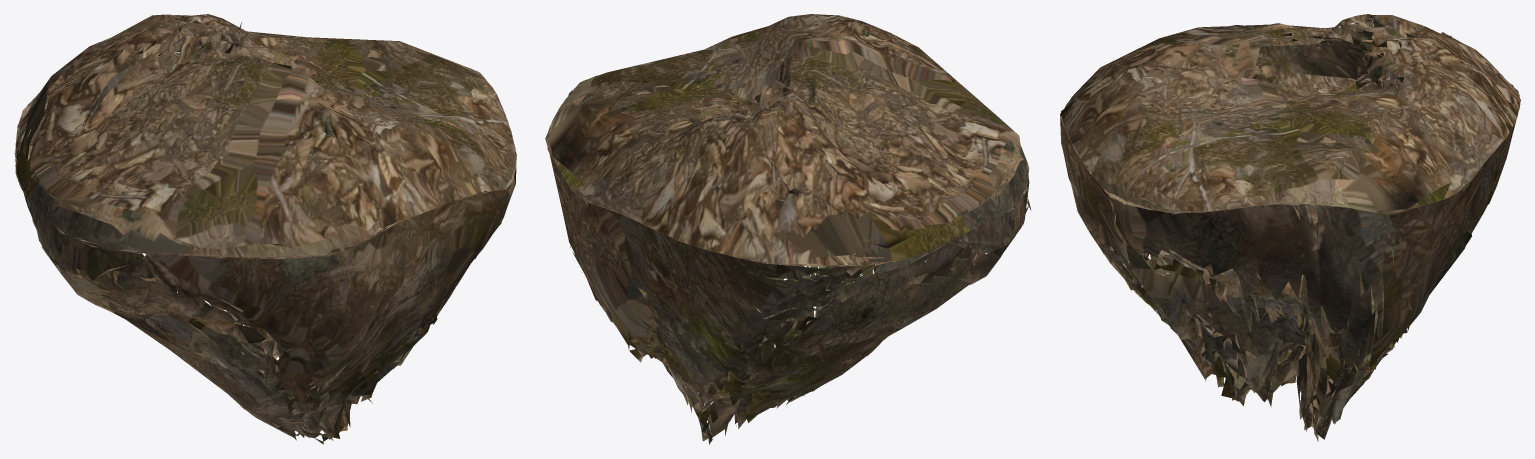
Rendered from frontstone.glb.
3 renders of one model, left to right at view 1: azimuth 30°, elevation 25°; view 2: azimuth 150°, elevation 25°; view 3: azimuth 270°, elevation 25°, orthographic. The views are drawn at different scales.
Parts seen in each view (by area): view 1: Landscape.006; view 2: Landscape.006; view 3: Landscape.006.
Part boxes in pixels (x1=…): Landscape.006: x1=14, y1=14, x2=516, y2=444; Landscape.006: x1=545, y1=14, x2=1031, y2=444; Landscape.006: x1=1060, y1=14, x2=1520, y2=441.
Bounding box in the file's own units: 3.33 × 2.98 × 3.26.
1 material, 1 textured.
